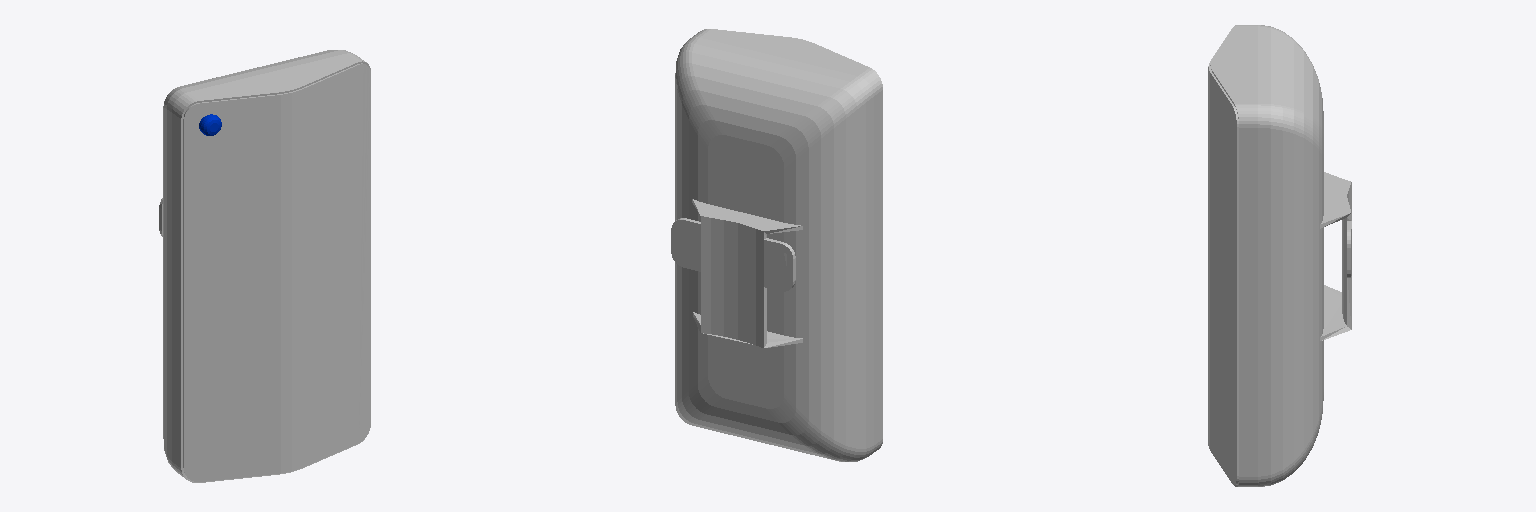
Rendered from Sensore_HYOT.obj.
3 views of the same model, side by side, from view 1: azimuth 30°, elevation 25°; view 2: azimuth 150°, elevation 25°; view 3: azimuth 270°, elevation 25° (orthographic).
Parts seen in each view (by area): view 1: Sensore_HYOT; view 2: Sensore_HYOT; view 3: Sensore_HYOT.
Part boxes in pixels (bbox=[...]): Sensore_HYOT: bbox=[159, 50, 370, 482]; Sensore_HYOT: bbox=[671, 29, 882, 461]; Sensore_HYOT: bbox=[1208, 25, 1351, 486].
Bounding box in the file's own units: 0.1396 × 0.2684 × 0.0912.